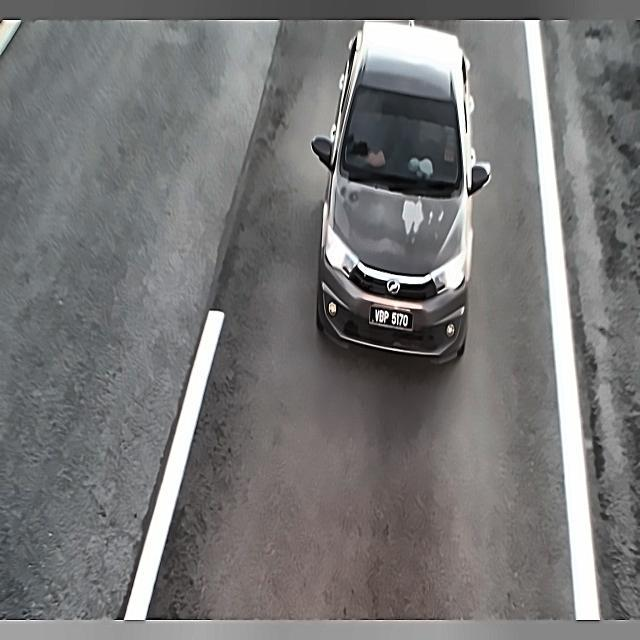car: (366, 301, 418, 335)
